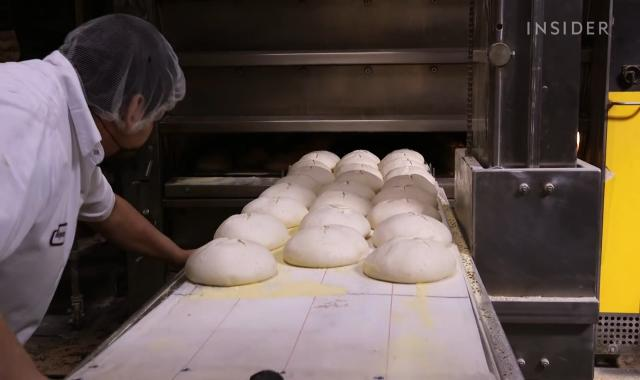hairnet: (64, 15, 188, 134)
